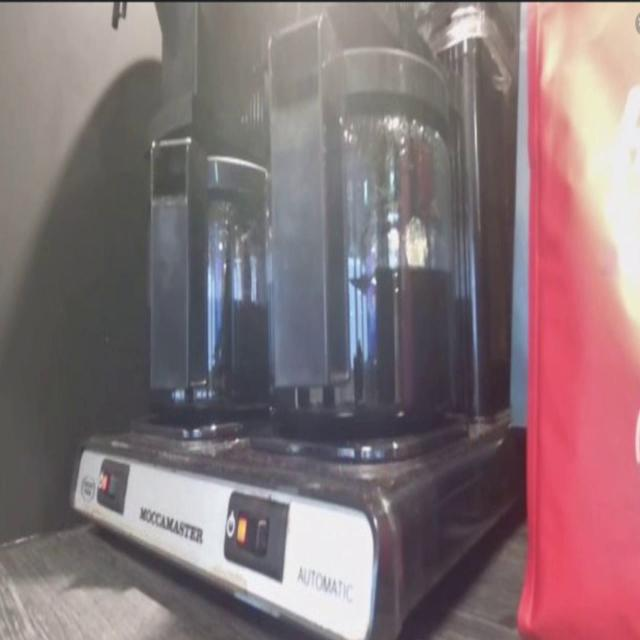coffee: (268, 63, 460, 429), (134, 135, 294, 426)
